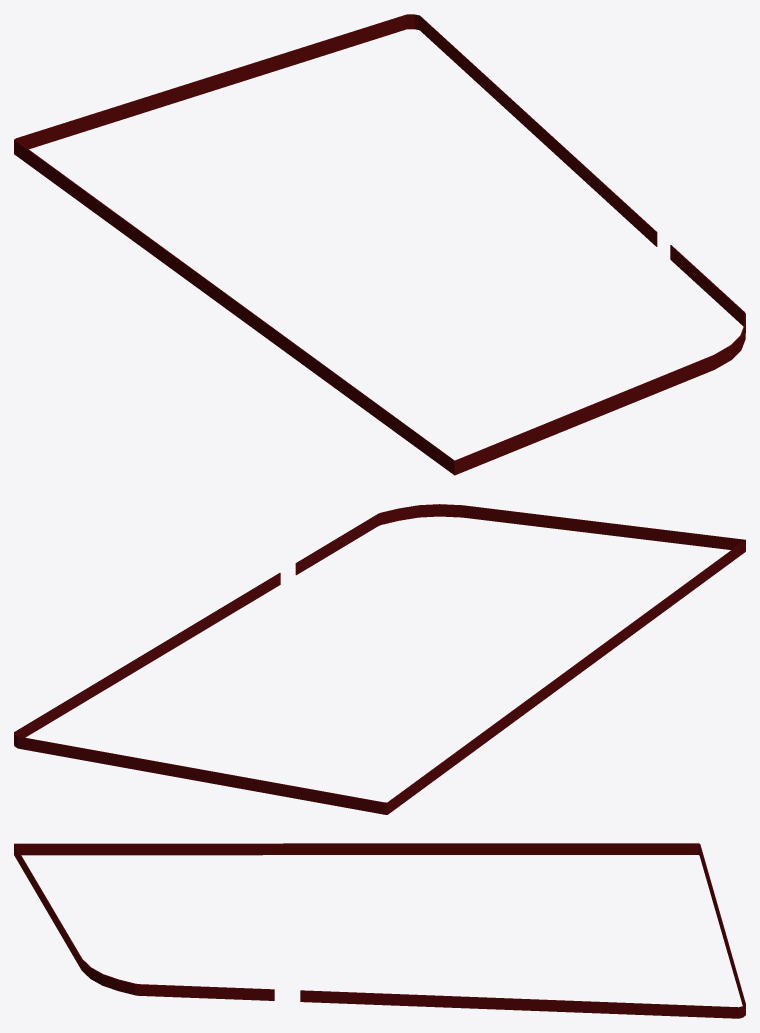
The model's file is front wall 1.fbx.
3 views of the same model, one above another, from view 1: azimuth 30°, elevation 25°; view 2: azimuth 150°, elevation 25°; view 3: azimuth 270°, elevation 25° (orthographic). The views are drawn at different scales.
Parts seen in each view (by area): view 1: road 1.002, road 1.005; view 2: road 1.002, road 1.005; view 3: road 1.002, road 1.005.
Boxes of the visible parts, left/top/right/bottom form: road 1.002: left=14, top=14, right=745, bottom=475; road 1.005: left=419, top=16, right=744, bottom=326; road 1.002: left=14, top=504, right=745, bottom=814; road 1.005: left=14, top=514, right=378, bottom=737; road 1.002: left=14, top=843, right=745, bottom=1018; road 1.005: left=138, top=984, right=738, bottom=1018.
Bounding box in the file's own units: 41294 × 1341 × 77791.
